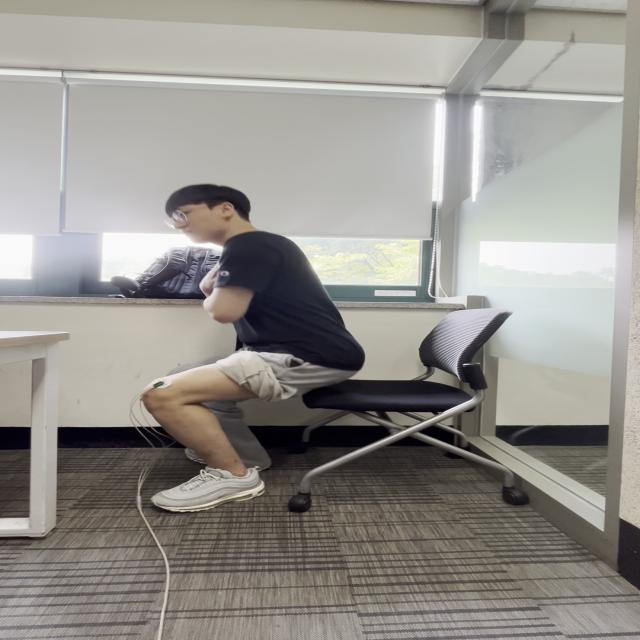stand: (124, 346, 276, 508), (210, 243, 360, 381), (208, 326, 386, 411)
